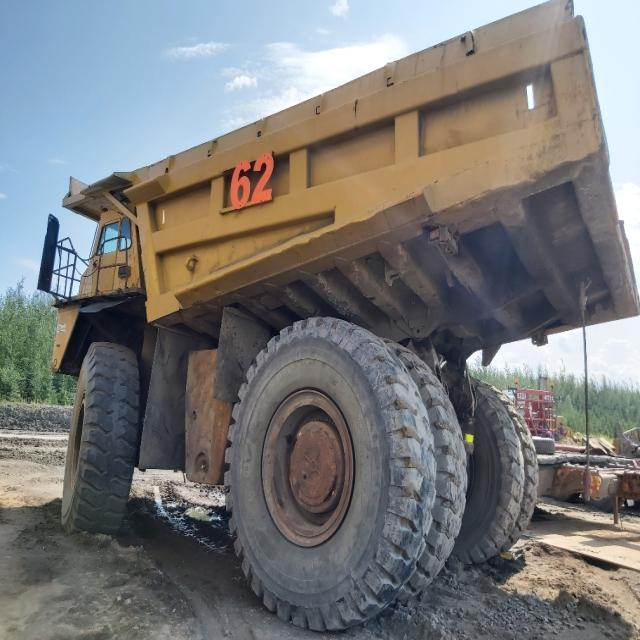dump_truck: (35, 2, 628, 622)
